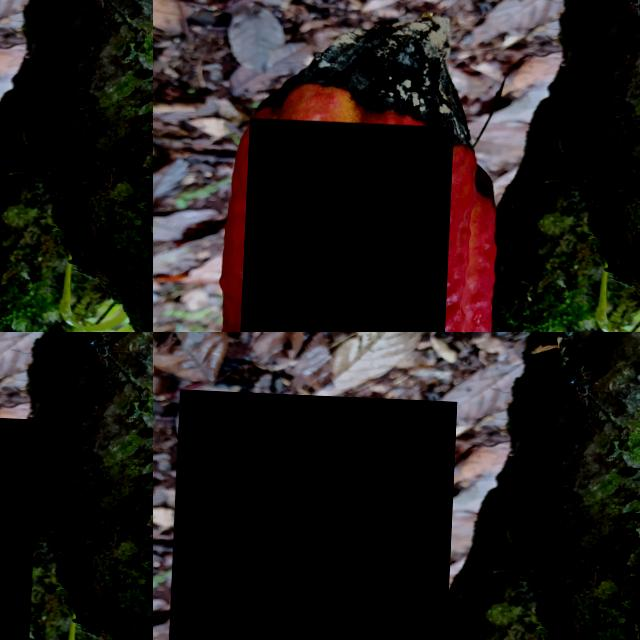Monilia: (164, 388, 458, 640), (238, 116, 455, 332)
